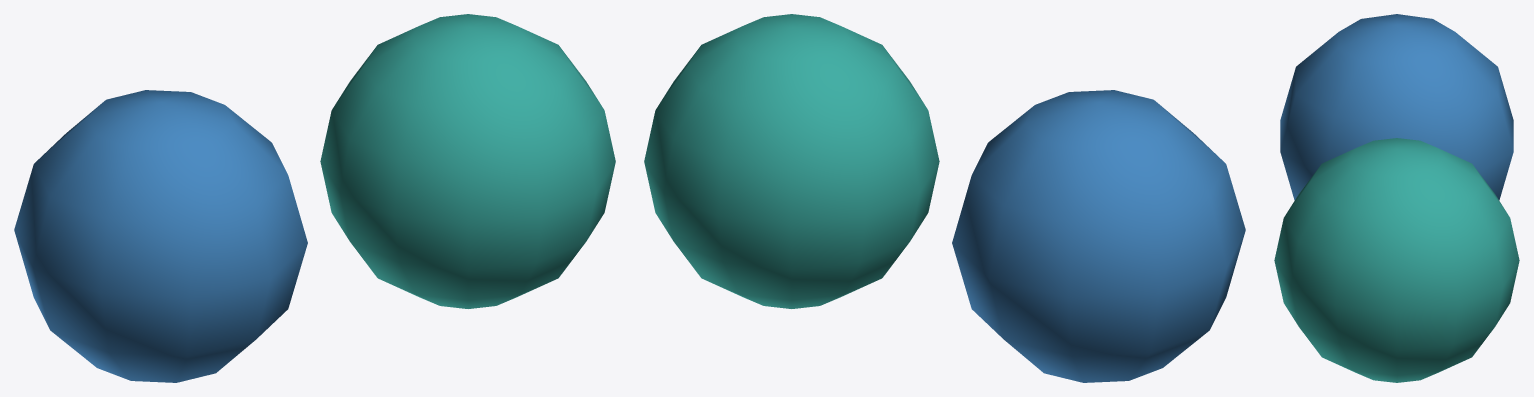
Rendered from morph-incompatible.glb.
3 views of the same model, side by side, from view 1: azimuth 30°, elevation 25°; view 2: azimuth 150°, elevation 25°; view 3: azimuth 270°, elevation 25° (orthographic). The views are drawn at different scales.
Parts seen in each view (by area): view 1: cortex.right, cortex.left; view 2: cortex.right, cortex.left; view 3: cortex.right, cortex.left.
Part boxes in pixels (x1,y1,x2,y2): cortex.right: (320,14,615,308); cortex.left: (14,90,307,382); cortex.right: (644,14,939,308); cortex.left: (952,90,1245,382); cortex.right: (1274,138,1519,382); cortex.left: (1280,14,1513,200).
Size of the model in its own units: 4.4 by 2 by 2.
